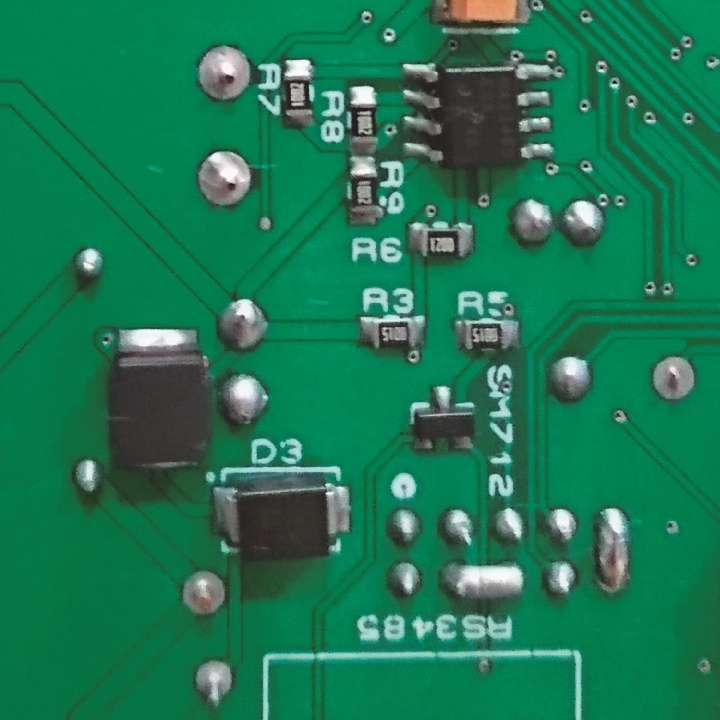F: (193, 148, 255, 210), (195, 44, 253, 104), (179, 564, 229, 622), (647, 353, 698, 406), (191, 653, 235, 713)
P: (437, 555, 527, 609), (595, 504, 633, 600)
